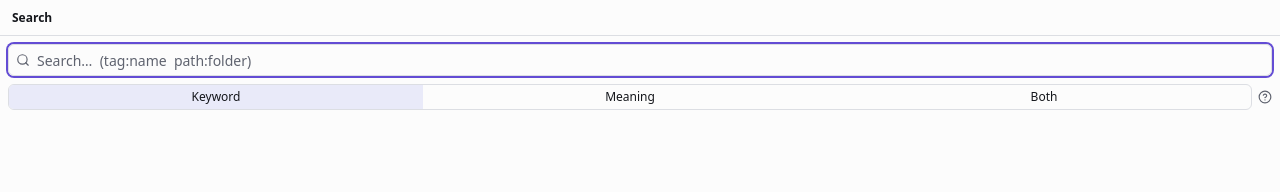
Test: SearchPanel › falls back to keyword results and says so when semantic search fails
The image size is (1280, 192).
Click the radio button labelled "Meaning": click(630, 97) [423,85,837,109]
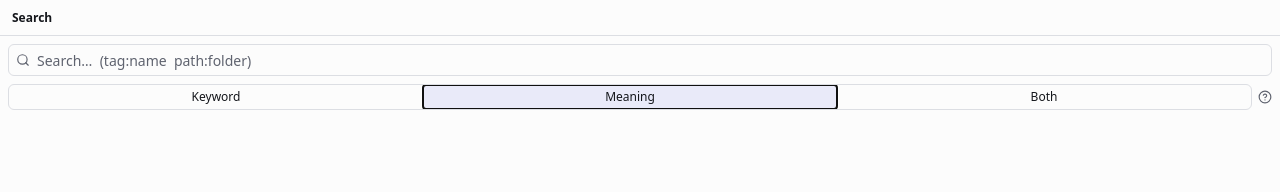
In the field named "Search notes": (640, 60) [8,44,1272,76], type "encryption"
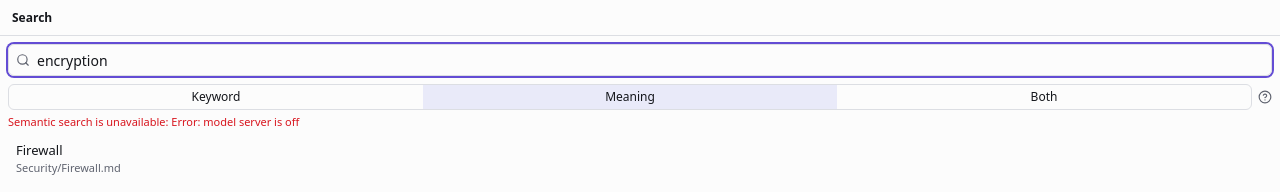
Expected: the message shows "Semantic search is unavailable", [8,114,299,129]
Expected: the text "Firewall" is shown, [16,140,62,158]
